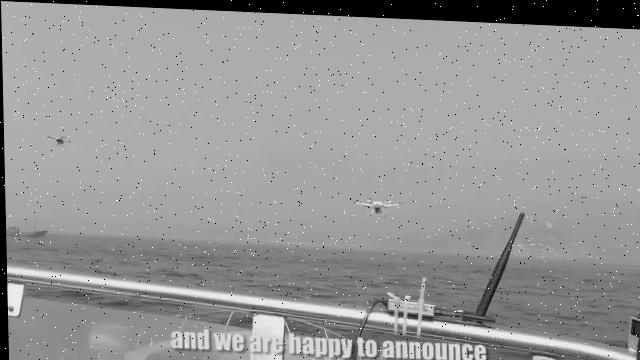drone: (350, 188, 401, 216), (43, 128, 68, 147)
